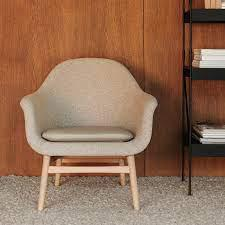chair: (13, 47, 167, 217)
